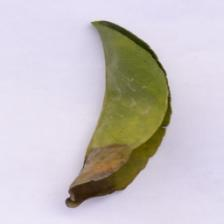black spot: (48, 139, 148, 212)
